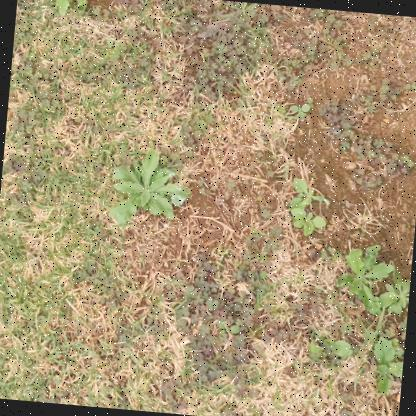Weeds: (105, 146, 194, 232), (332, 242, 396, 323), (369, 335, 405, 394), (287, 175, 334, 214), (55, 0, 123, 26), (378, 269, 411, 318), (309, 333, 353, 363), (291, 207, 327, 237), (290, 102, 311, 120)
